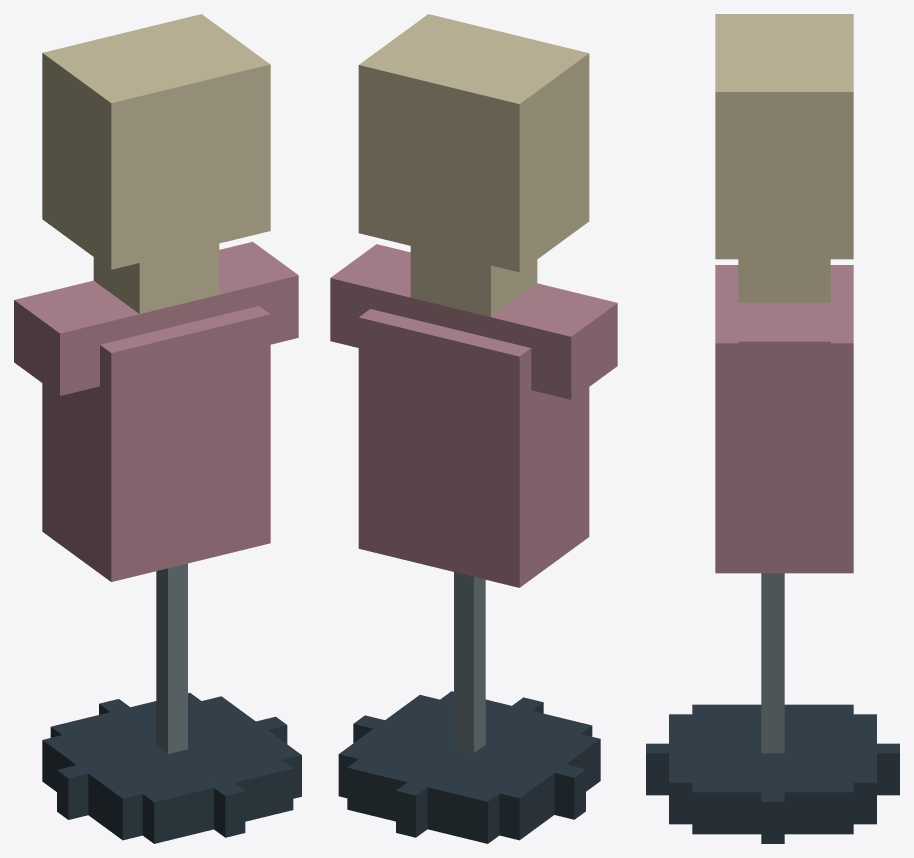
Rendered from fashion-18.glb.
3 views of the same model, side by side, from view 1: azimuth 30°, elevation 25°; view 2: azimuth 150°, elevation 25°; view 3: azimuth 270°, elevation 25° (orthographic).
Parts seen in each view (by area): view 1: Jewelry bust; view 2: Jewelry bust; view 3: Jewelry bust.
Boxes of the visible parts, x1=… form: Jewelry bust: x1=14, y1=14, x2=301, y2=843; Jewelry bust: x1=330, y1=14, x2=617, y2=843; Jewelry bust: x1=646, y1=14, x2=899, y2=843.
Size of the model in its own units: 0.96 by 2.8 by 0.88.
